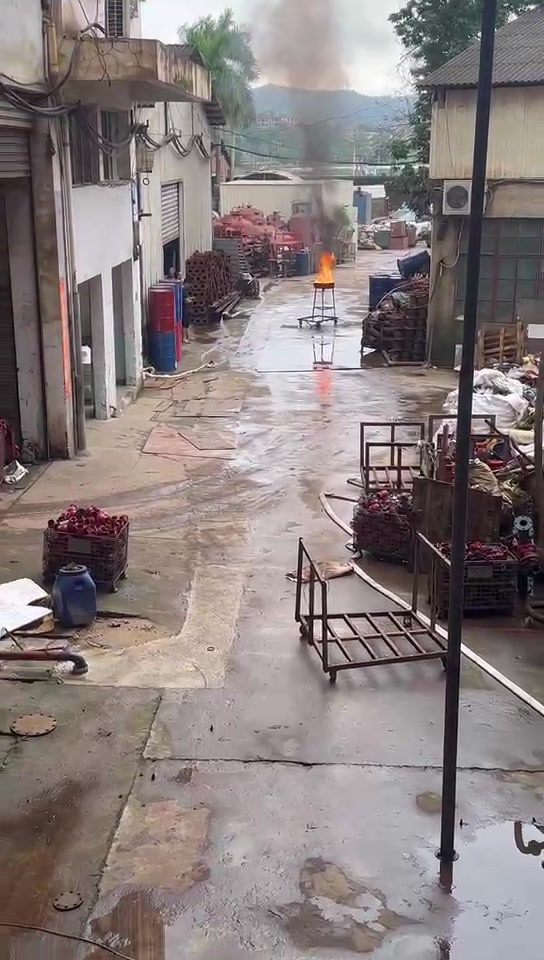fire: (314, 254, 333, 283)
